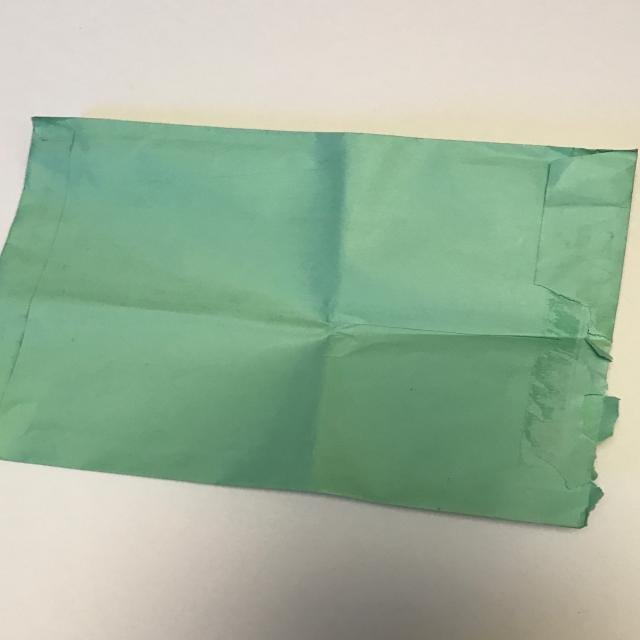paper: (0, 99, 640, 540)
